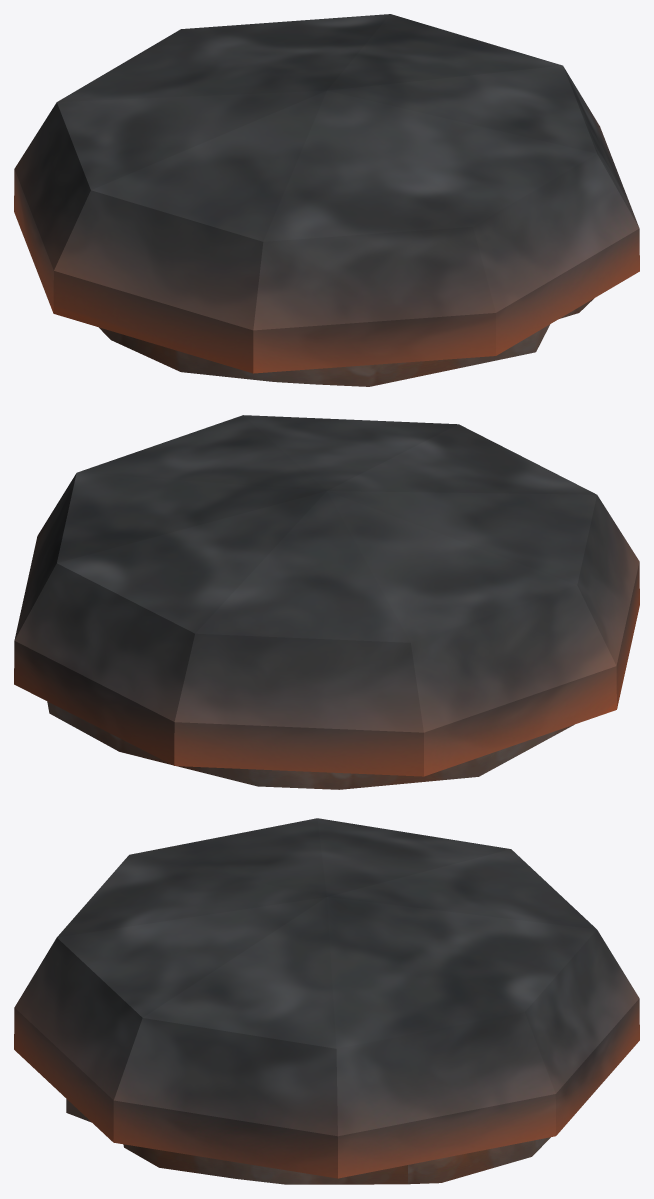
Rendered from lava2.fbx.
3 renders of one model, top to bottom at view 1: azimuth 30°, elevation 25°; view 2: azimuth 150°, elevation 25°; view 3: azimuth 270°, elevation 25°, orthographic. The views are drawn at different scales.
Parts seen in each view (by area): view 1: level5_sky, level4_shan_bj; view 2: level5_sky, level4_shan_bj; view 3: level5_sky, level4_shan_bj.
Part boxes in pixels (x1,y1,x2,y2): level5_sky: (14, 14, 639, 373); level4_shan_bj: (99, 298, 593, 386); level5_sky: (14, 415, 639, 776); level4_shan_bj: (47, 701, 574, 789); level5_sky: (14, 818, 639, 1178); level4_shan_bj: (66, 1099, 550, 1184).
Size of the model in its own units: 46864 by 15514 by 46399.
